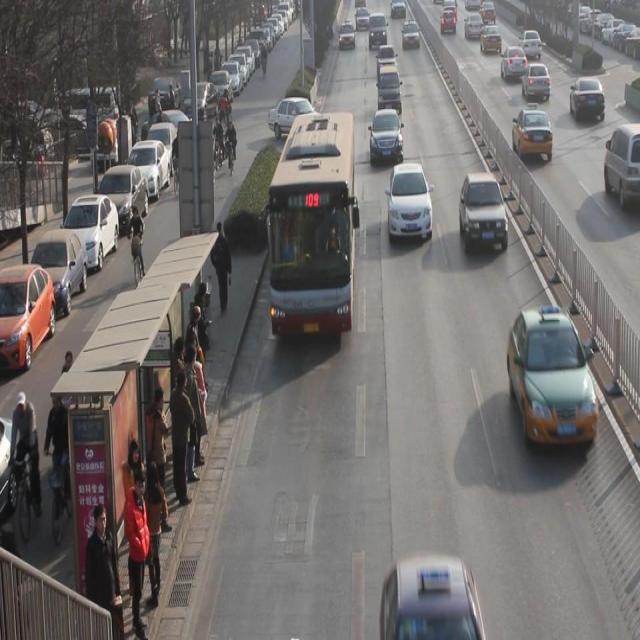car: (507, 306, 599, 449), (383, 556, 486, 640), (460, 174, 508, 253), (387, 162, 433, 238), (267, 96, 324, 142), (513, 104, 553, 161), (371, 108, 403, 165), (569, 76, 605, 122), (522, 61, 550, 101), (501, 45, 527, 79), (519, 29, 542, 60), (481, 22, 502, 53), (464, 11, 484, 39), (402, 18, 421, 47), (377, 44, 397, 70), (339, 19, 356, 49), (440, 10, 457, 34)
truck: (604, 124, 640, 209), (378, 66, 401, 112), (369, 11, 387, 48)
van: (266, 113, 354, 336)
